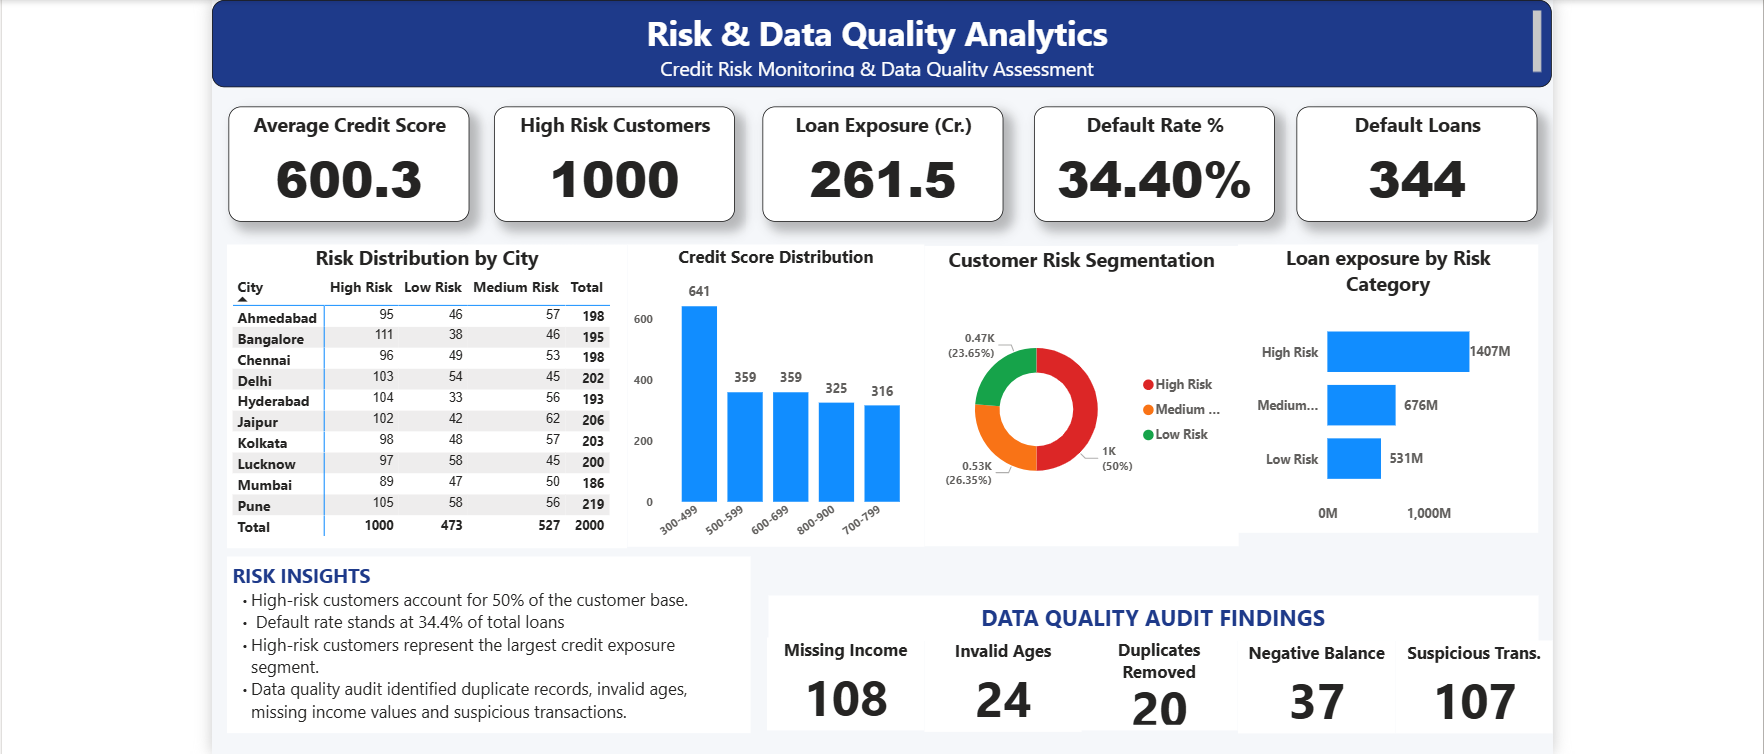

What the dashboard file says about the page in this screenshot:
{"tool":"powerbi","page":{"name":"Risk & Credit Analytics","canvas":[1280,720],"ordinal":1},"visuals":[{"type":"card","title":"Average Credit Score","fields":{"Values":["Avg(bankinganalytics creditscores_clean.Credit_Score)"]},"box":[15.7,101.4,230,110],"z":0},{"type":"card","title":"High Risk Customers","fields":{"Values":["bankinganalytics creditscores_clean.High Risk Customers"]},"box":[270,101.7,230,110],"z":1000},{"type":"card","title":"Default Loans","fields":{"Values":["bankinganalytics loans_clean.Default Loans"]},"box":[1035.7,101.4,230,110],"z":2000},{"type":"card","title":"Default Rate %","fields":{"Values":["bankinganalytics loans_clean.Default Rate"]},"box":[785,101.7,230,110],"z":3000},{"type":"card","title":"Loan Exposure (Cr.)","fields":{"Values":["bankinganalytics accounts_clean.Loan Amount (Cr)"]},"box":[525,101.7,230,110],"z":4000},{"type":"donutChart","title":"Customer Risk Segmentation","fields":{"Category":["bankinganalytics creditscores_clean.Risk Category"],"Y":["CountNonNull(bankinganalytics creditscores_clean.Customer_ID)"]},"box":[680,235,300,286.7],"z":5000},{"type":"clusteredBarChart","title":"Loan exposure by Risk Category","fields":{"Category":["bankinganalytics creditscores_clean.Risk Category"],"Y":["Sum(bankinganalytics loans_clean.Loan_Amount)"]},"box":[980,233.3,286.7,275],"z":6000},{"type":"columnChart","title":"Credit Score Distribution","fields":{"Y":["CountNonNull(bankinganalytics creditscores_clean.Customer_ID)"],"Category":["bankinganalytics creditscores_clean.Credit Score Band"]},"box":[396.7,233.3,283.3,288.3],"z":7000},{"type":"pivotTable","title":"Risk Distribution by City","fields":{"Rows":["bankinganalytics customers_clean.City"],"Columns":["bankinganalytics creditscores_clean.Risk Category"],"Values":["CountNonNull(bankinganalytics customers_clean.Customer_ID)"]},"box":[15,233.3,381.7,290],"z":8000},{"type":"card","title":"Missing Income","fields":{"Values":["bankinganalytics accounts_clean.Missing Income"]},"box":[530,608.3,150,88.3],"z":9000},{"type":"card","title":"Invalid Ages","fields":{"Values":["bankinganalytics accounts_clean.Invalid Ages"]},"box":[680,610,150,88.3],"z":10000},{"type":"card","title":"Duplicates Removed","fields":{"Values":["bankinganalytics accounts_clean.Duplicates Removed"]},"box":[830,608.3,150,88.3],"z":11000},{"type":"card","title":"Negative Balance","fields":{"Values":["bankinganalytics accounts_clean.Negative Balances"]},"box":[980,611.7,150,88.3],"z":12000},{"type":"card","title":"Suspicious Trans.","fields":{"Values":["bankinganalytics accounts_clean.Suspicious Transactions"]},"box":[1130,611.7,150,88.3],"z":13000},{"type":"textbox","box":[0,0,1279.7,83.1],"z":14000},{"type":"textbox","box":[15,531.7,500,168.3],"z":15000},{"type":"textbox","box":[531.7,568.3,735,43.3],"z":16000}]}

Visuals, with their boxes on the page's 1280x720 design canvas (x1, y1, x2, y2). These are canvas units, not pixel positions in the 1764x754 screenshot, which may show the page scaled, cropped or inside an application window:
"Average Credit Score" card: (x1=16, y1=101, x2=246, y2=211)
"High Risk Customers" card: (x1=270, y1=102, x2=500, y2=212)
"Default Loans" card: (x1=1036, y1=101, x2=1266, y2=211)
"Default Rate %" card: (x1=785, y1=102, x2=1015, y2=212)
"Loan Exposure (Cr.)" card: (x1=525, y1=102, x2=755, y2=212)
"Customer Risk Segmentation" donutChart: (x1=680, y1=235, x2=980, y2=522)
"Loan exposure by Risk Category" clusteredBarChart: (x1=980, y1=233, x2=1267, y2=508)
"Credit Score Distribution" columnChart: (x1=397, y1=233, x2=680, y2=522)
"Risk Distribution by City" pivotTable: (x1=15, y1=233, x2=397, y2=523)
"Missing Income" card: (x1=530, y1=608, x2=680, y2=697)
"Invalid Ages" card: (x1=680, y1=610, x2=830, y2=698)
"Duplicates Removed" card: (x1=830, y1=608, x2=980, y2=697)
"Negative Balance" card: (x1=980, y1=612, x2=1130, y2=700)
"Suspicious Trans." card: (x1=1130, y1=612, x2=1280, y2=700)
textbox: (x1=0, y1=0, x2=1280, y2=83)
textbox: (x1=15, y1=532, x2=515, y2=700)
textbox: (x1=532, y1=568, x2=1267, y2=612)
